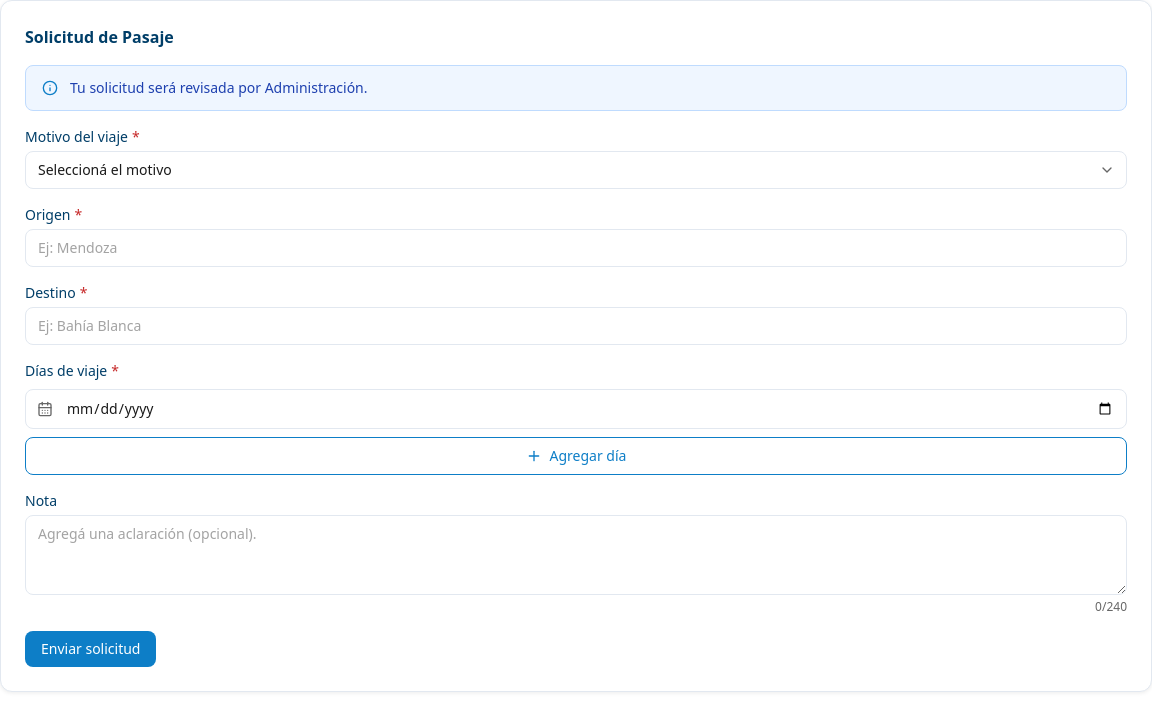
Test: SolicitudPasajeForm: {ok:false} de createPasajeRequest se muestra (FB-F4-17) › la action devuelve {ok:false, error} → el error se renderiza y el éxito NO se muestra
Select "Traslado entre proyectos" in the dropdown labelled "Motivo del viaje" at (576, 170), box [25,151,1127,189]
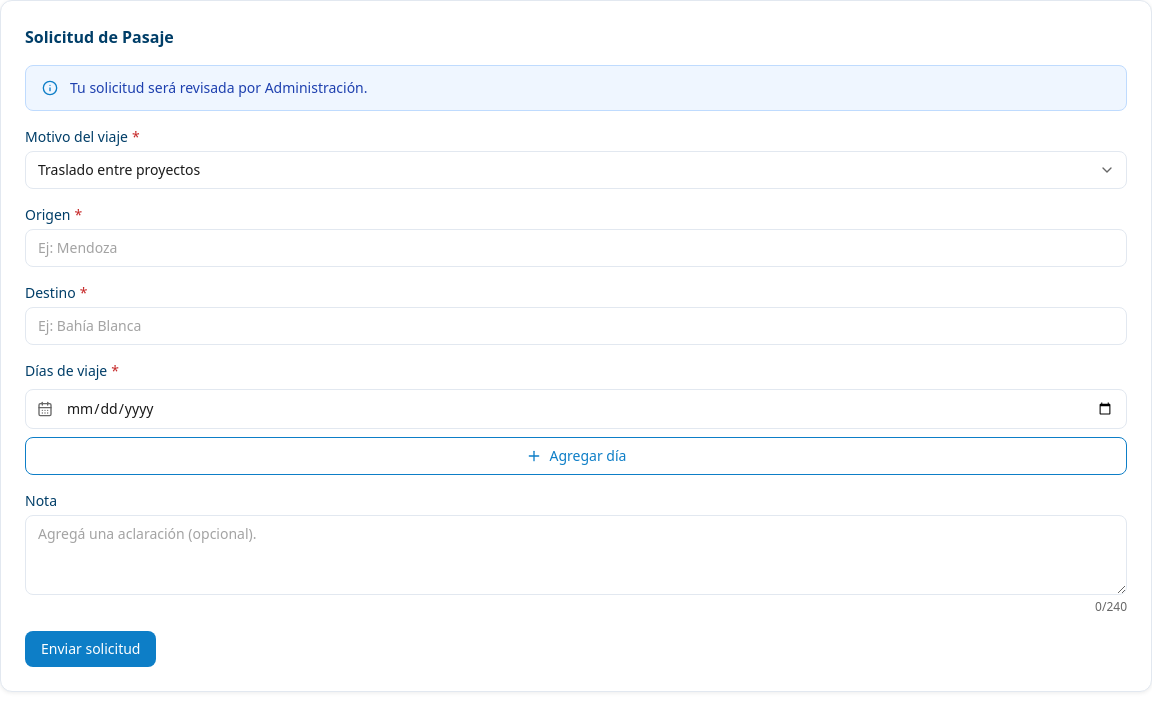
Type "Base" into the field labelled "Origen" at (576, 248), box [25,229,1127,267]
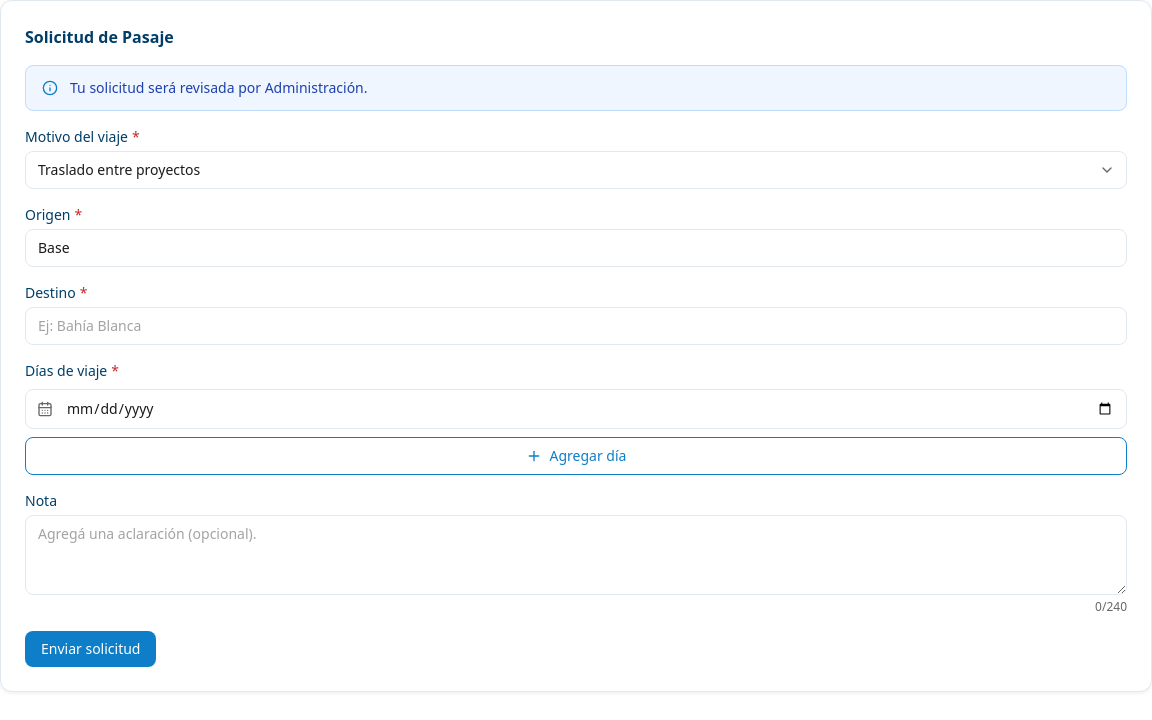
Type "Sitio" into the field labelled "Destino" at (576, 326), box [25,307,1127,345]
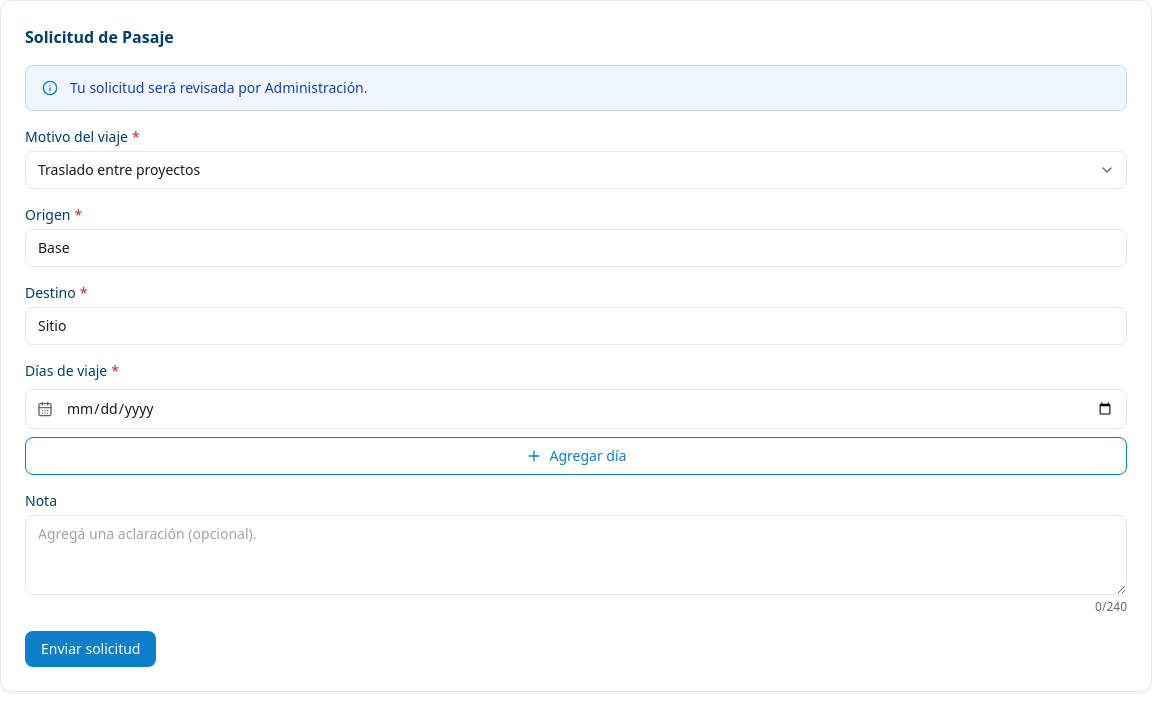
Type "2027-06-16" into the date field named "Días de viaje 1" at (576, 409), box [25,389,1127,429]
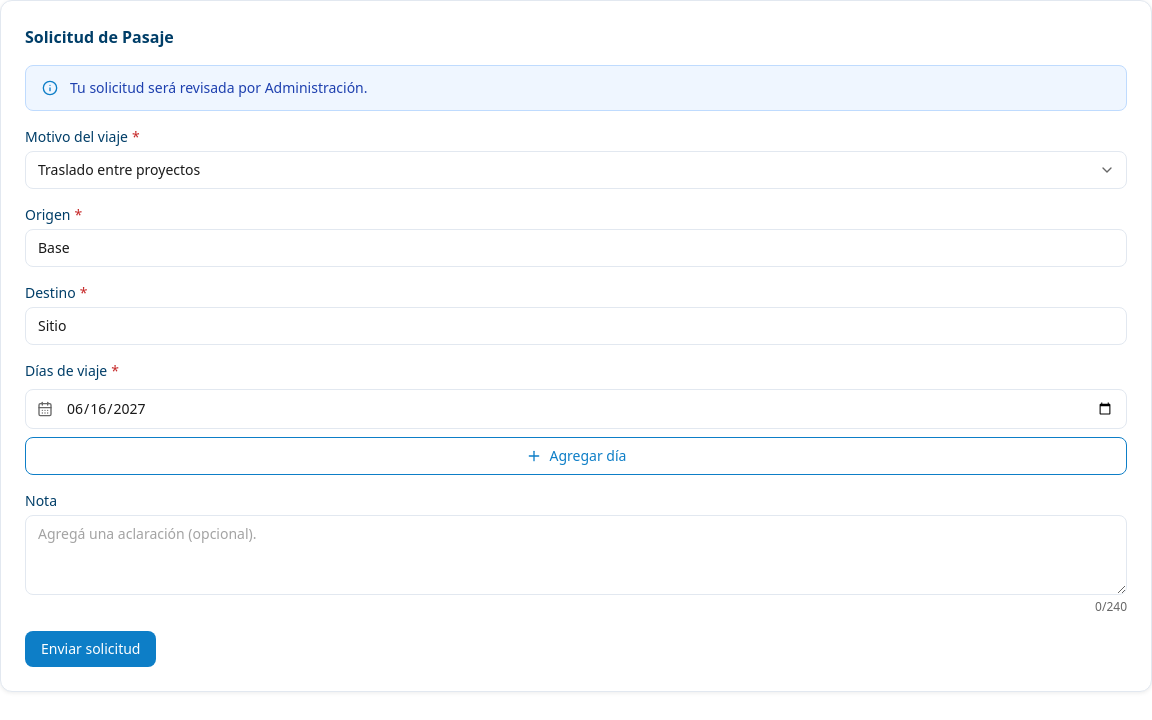
Click the button "Enviar solicitud" at (91, 649), box [25,631,156,667]
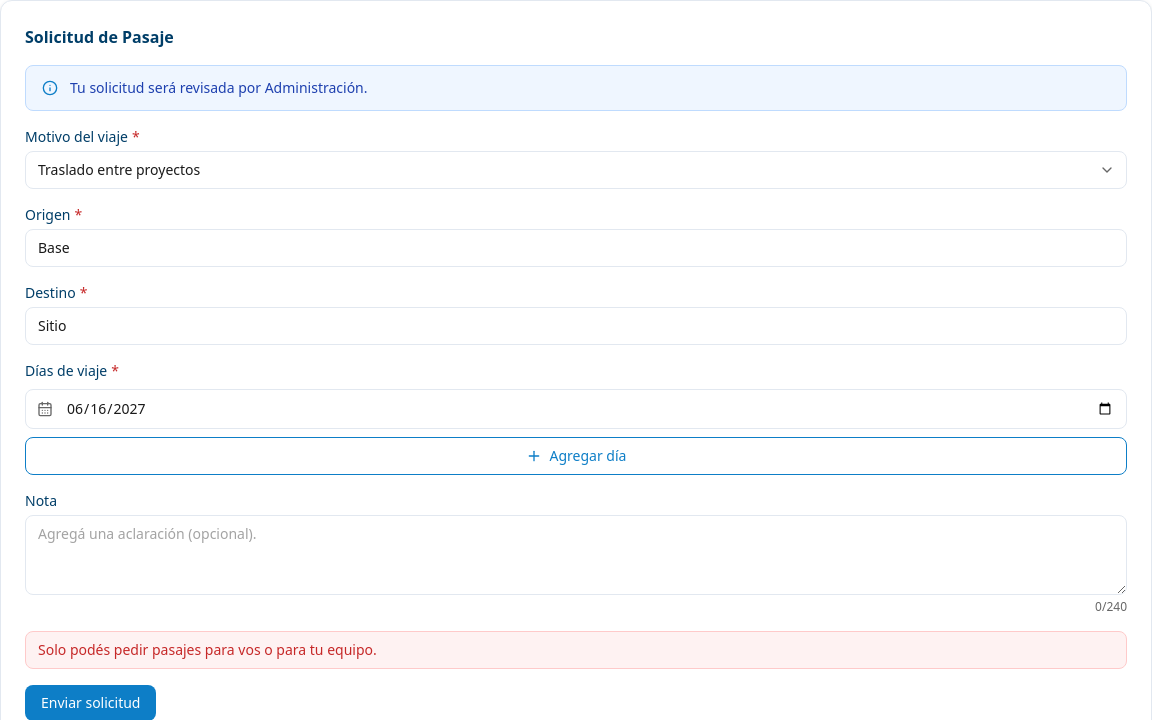
Now the text "Solo podés pedir pasajes para vos o para tu equipo." is shown, box [25,631,1127,669]
